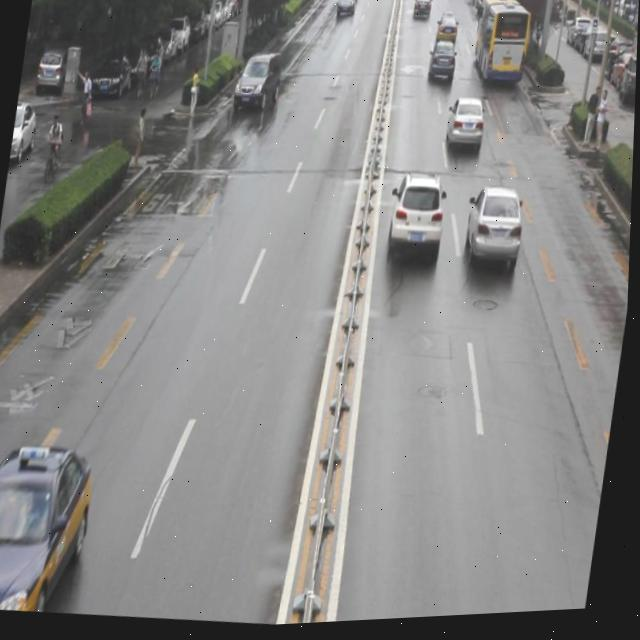car: (0, 438, 98, 618), (383, 176, 450, 275), (460, 187, 529, 279), (441, 100, 485, 160)
truck: (231, 50, 283, 122)
